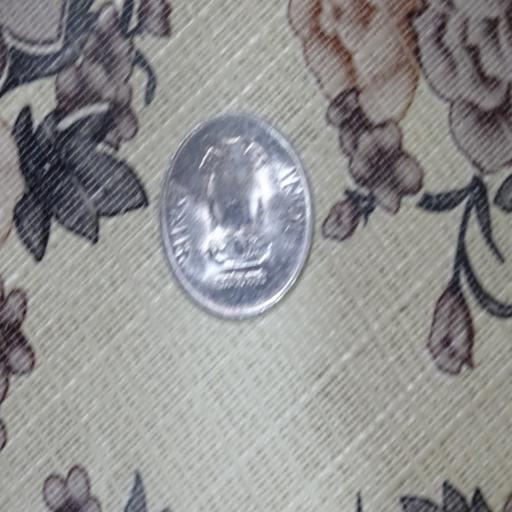rupee1: (158, 114, 314, 317)
